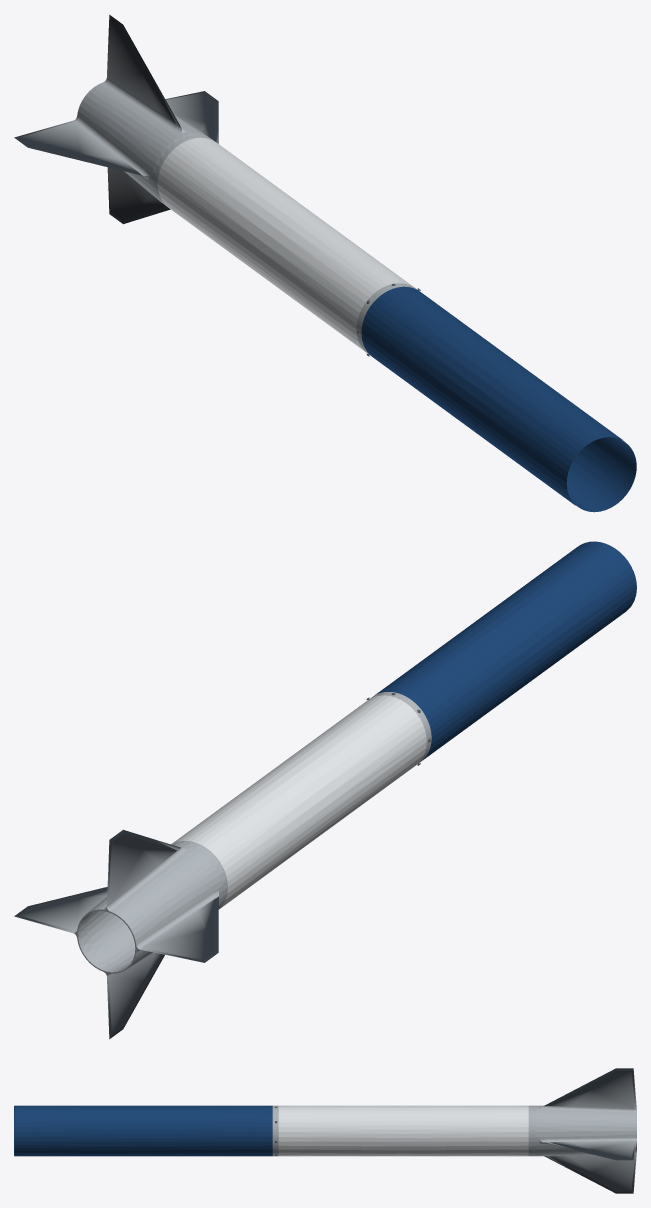
Rendered from atlas-body.glb.
3 renders of one model, top to bottom at view 1: azimuth 30°, elevation 25°; view 2: azimuth 150°, elevation 25°; view 3: azimuth 270°, elevation 25°, orthographic. The views are drawn at different scales.
Parts seen in each view (by area): view 1: coifa, fus_inf, boattail; view 2: coifa, fus_inf, boattail; view 3: coifa, fus_inf, boattail, coup_(1).
Part boxes in pixels (x1=…): coifa: x1=361, y1=286, x2=636, y2=512; fus_inf: x1=157, y1=137, x2=413, y2=351; boattail: x1=14, y1=14, x2=218, y2=224; coifa: x1=375, y1=541, x2=636, y2=759; fus_inf: x1=172, y1=695, x2=426, y2=909; boattail: x1=14, y1=829, x2=226, y2=1039; coifa: x1=14, y1=1105, x2=272, y2=1156; fus_inf: x1=278, y1=1105, x2=528, y2=1156; boattail: x1=529, y1=1068, x2=636, y2=1193; coup_(1): x1=273, y1=1105, x2=278, y2=1156.
Size of the model in its own units: 0.4129 by 0.4129 by 1.86.
